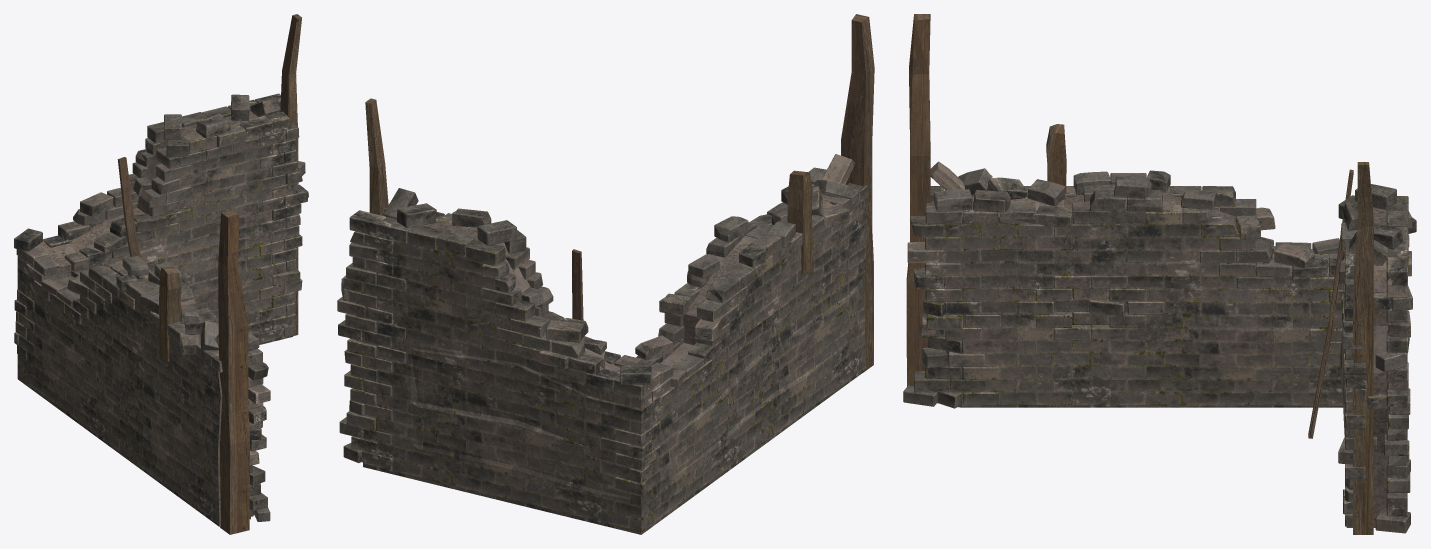
File: SM_ASY_RuinsWall_CornerLeft_01.fbx
3 renders of one model, left to right at view 1: azimuth 30°, elevation 25°; view 2: azimuth 150°, elevation 25°; view 3: azimuth 270°, elevation 25°, orthographic. The views are drawn at different scales.
Parts seen in each view (by area): view 1: SM_ASY_RuinsWall_CornerLeft_01.mo; view 2: SM_ASY_RuinsWall_CornerLeft_01.mo; view 3: SM_ASY_RuinsWall_CornerLeft_01.mo.
Part boxes in pixels (x1,y1,x2,y2): SM_ASY_RuinsWall_CornerLeft_01.mo: [14, 14, 308, 534]; SM_ASY_RuinsWall_CornerLeft_01.mo: [337, 14, 874, 534]; SM_ASY_RuinsWall_CornerLeft_01.mo: [903, 14, 1416, 534].
Size of the model in its own units: 303 by 315 by 392.
